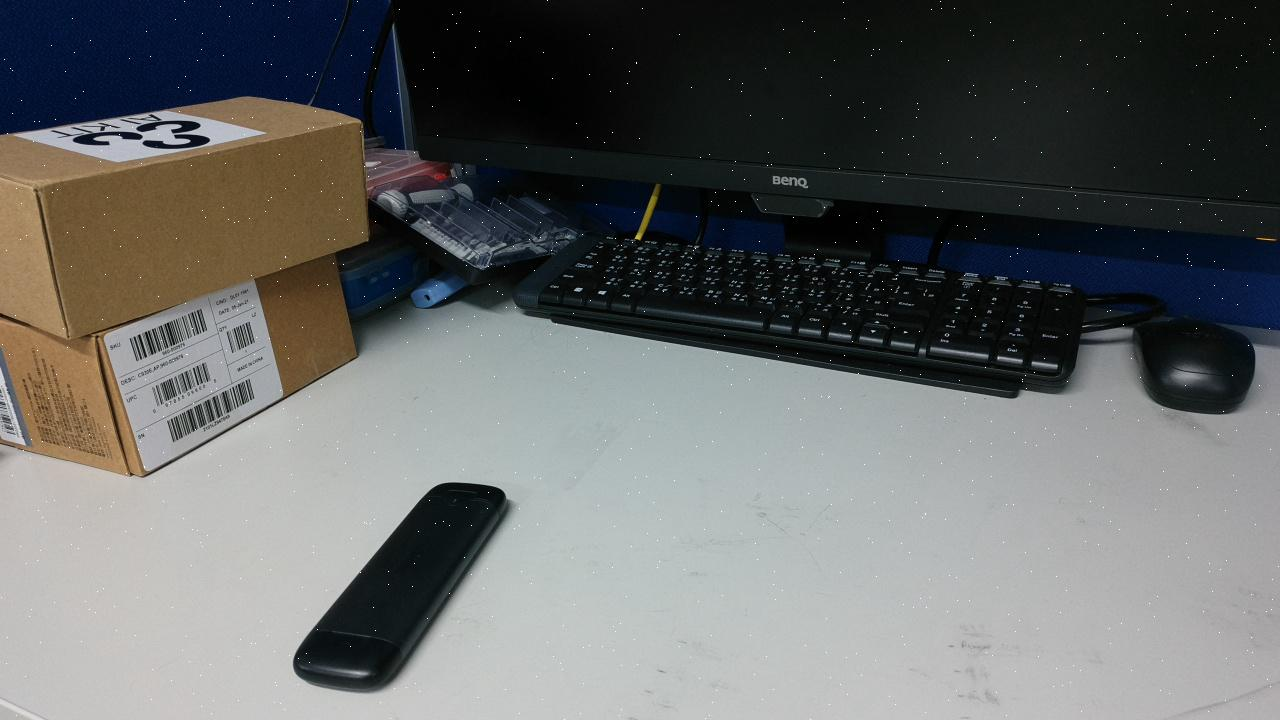blade: (616, 437, 678, 461)
grasp: (460, 431, 638, 536)
